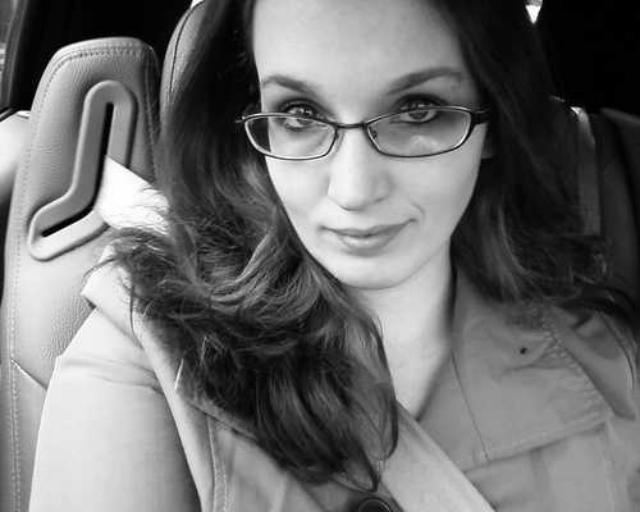SafeDriving: (379, 84, 458, 138), (268, 90, 334, 138)
Seatbelt: (93, 148, 507, 512)
